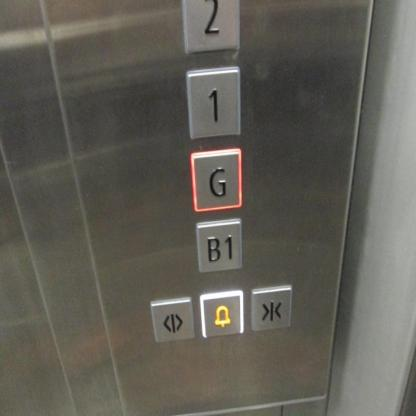1: (183, 63, 242, 141)
B1: (193, 216, 244, 274)
G: (188, 145, 243, 213)
alarm: (198, 288, 245, 340)
close: (249, 281, 294, 334)
open: (147, 294, 196, 345)
